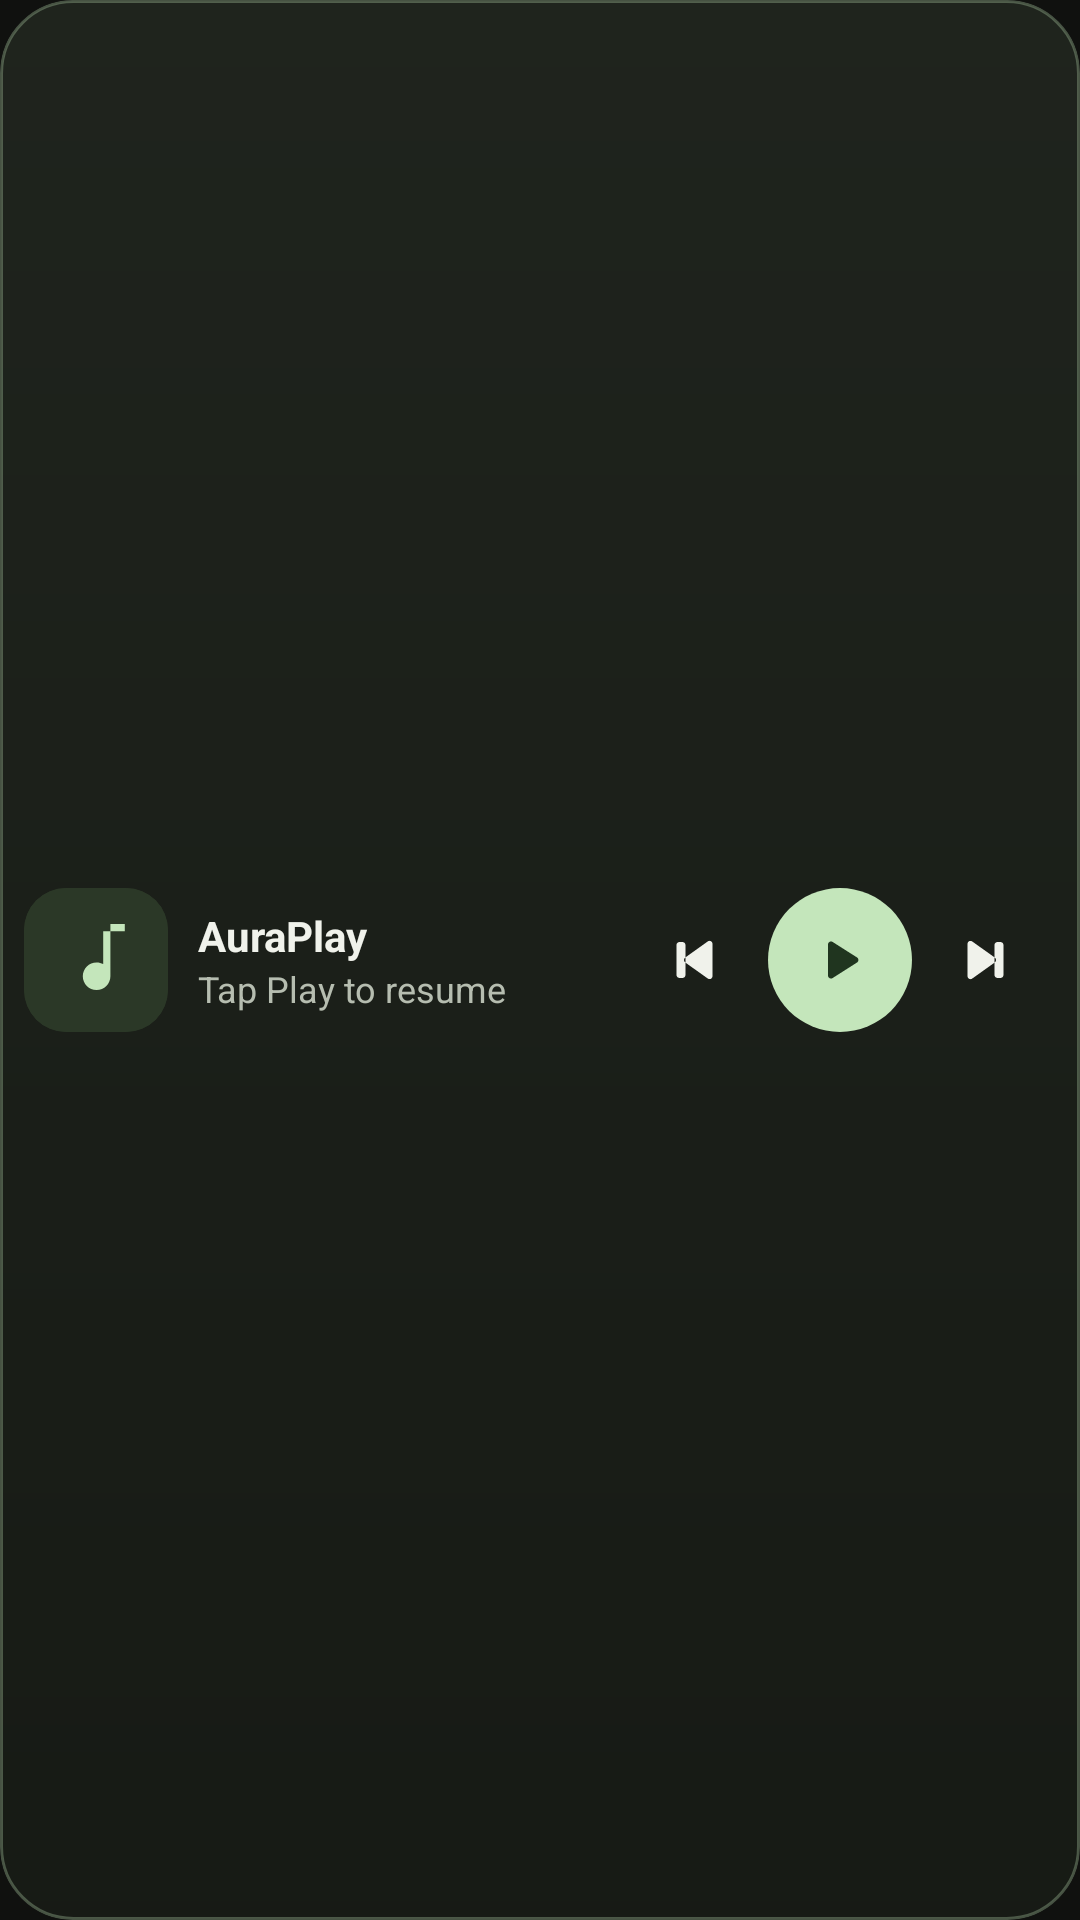

Where to tap for icons on this 1080x1920 app screen, as point (x, y):
Next track: point (985, 960)
Play: point (840, 960)
Previous track: point (694, 959)
